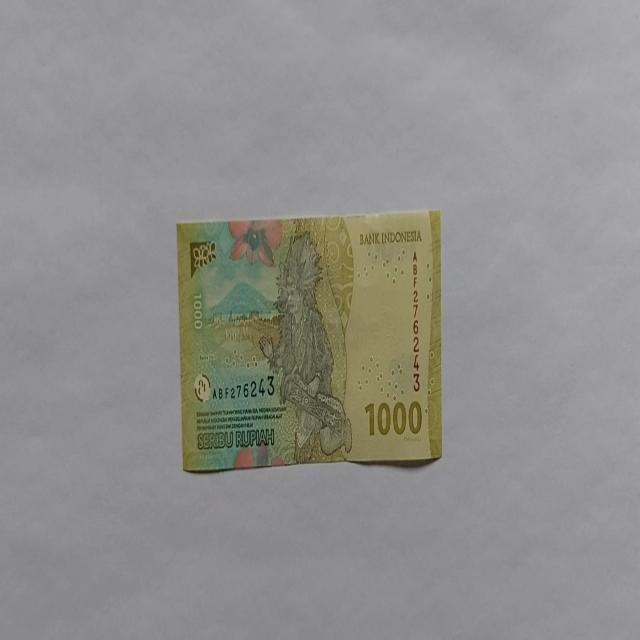seribu rupiah kertas: (175, 208, 442, 472)
